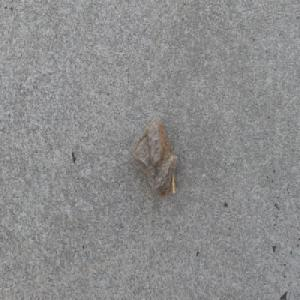Rock: (128, 113, 177, 198)
